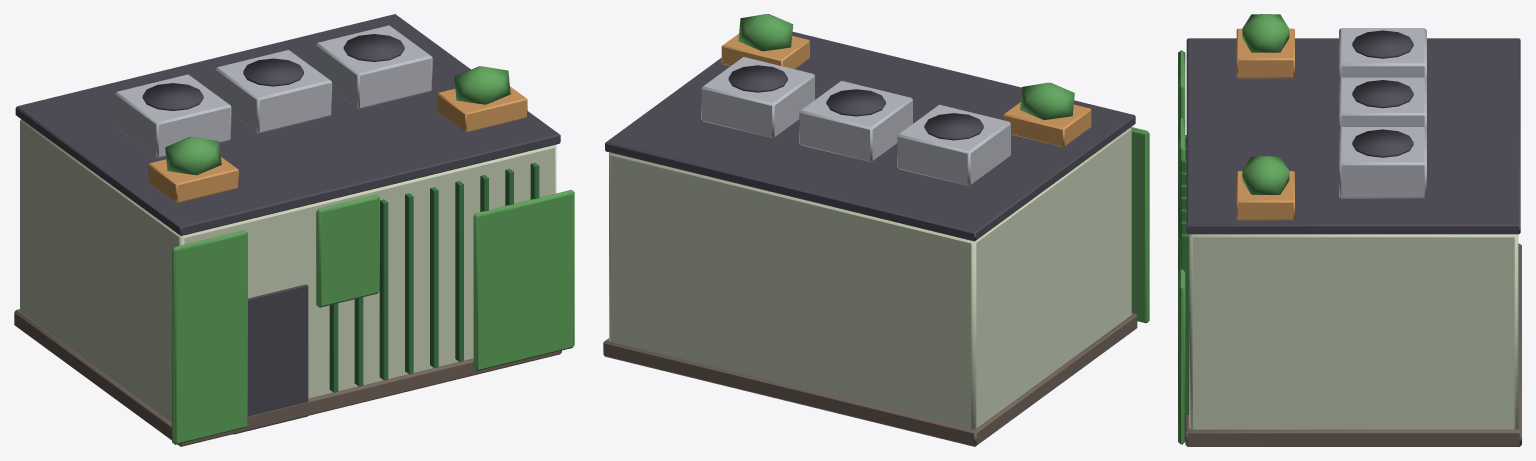
The model's file is era_datacentre_overgrown.glb.
The picture shows the model from 3 angles, left to right: view 1: azimuth 30°, elevation 25°; view 2: azimuth 150°, elevation 25°; view 3: azimuth 270°, elevation 25°; orthographic projection. The views are drawn at different scales.
Parts seen in each view (by area): view 1: era_datacentre_overgrown; view 2: era_datacentre_overgrown; view 3: era_datacentre_overgrown.
Boxes of the visible parts, x1,y1,x2,y2 form: era_datacentre_overgrown: [14, 14, 574, 446]; era_datacentre_overgrown: [603, 14, 1149, 446]; era_datacentre_overgrown: [1178, 14, 1521, 446].
Bounding box in the file's own units: 6.4 × 4.09 × 4.7.
